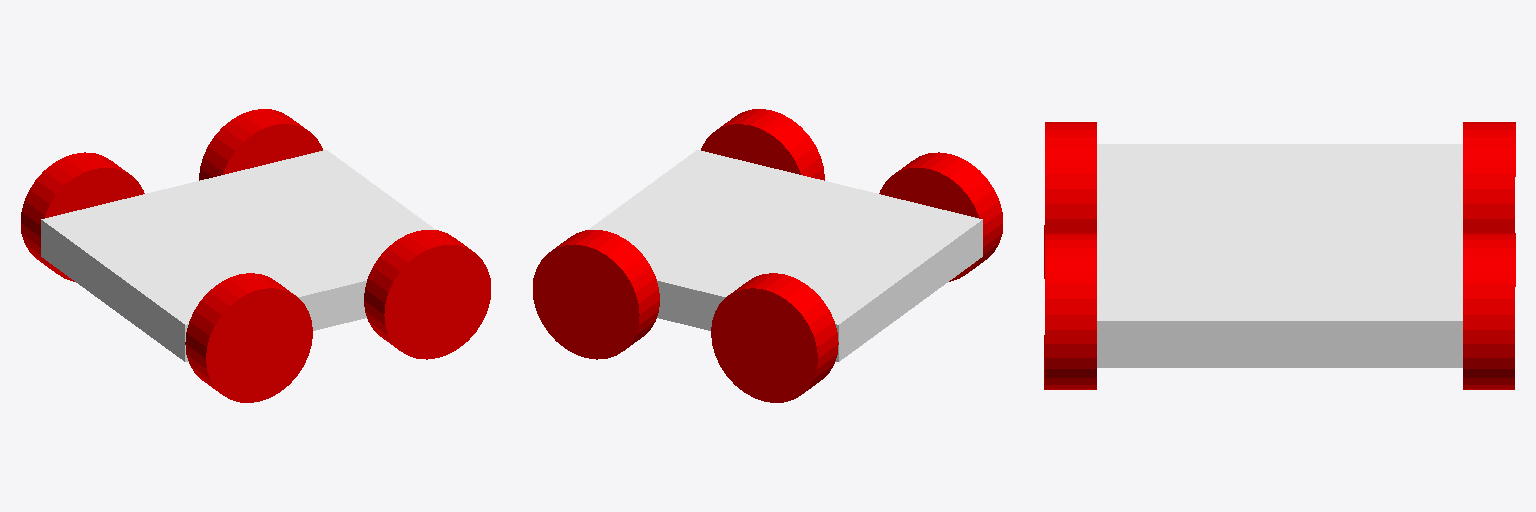
URDF robot description (rover):
<?xml version="1.0"?>
<robot name="rover">
    <link name="base_footprint"/>
    <link name="base_link">
        <inertial>
            <origin xyz="0.0 0.0 0.0" rpy="0.0 0.0 0.0"/>
            <mass value="1.0"/>
            <inertia ixx="0.04165" ixy="0.0" ixz="0.0" iyy="0.054145" iyz="0.0" izz="0.094129"/>
        </inertial>
        <visual name="">
            <origin xyz="0.0 0.0 0.0" rpy="0.0 0.0 0.0"/>
            <geometry>
                <box size="0.8 0.7 0.1"/>
            </geometry>
            <material name="">
                <color rgba="1.0 1.0 1.0 1.0"/>
                <texture filename=""/>
            </material>
        </visual>
        <collision>
            <origin xyz="0.0 0.0 0.0" rpy="0.0 0.0 0.0"/>
            <geometry>
                <box size="0.0 0.0 0.0"/>
            </geometry>
        </collision>
    </link>
    <joint name="base_joint" type="fixed">
        <origin xyz="0.0 0.0 0.135" rpy="0.0 0.0 0.0"/>
        <parent link="base_footprint"/>
        <child link="base_link"/>
        <axis xyz="0.0 0.0 0.0"/>
        <limit lower="0.0" upper="0.0" effort="0.0" velocity="0.0"/>
    </joint>
    


    <link name="wheel_rear_right_link">
        <inertial>
            <origin xyz="0.0 0.0 0.0" rpy="0.0 0.0 0.0"/>
            <mass value="0.5"/>
            <inertia ixx="0.003227875" ixy="0.0" ixz="0.0" iyy="0.003227875" iyz="0.0" izz="0.005625"/>
        </inertial>
        <visual name="">
            <origin xyz="0.0 0.0 0.0" rpy="0.0 0.0 0.0"/>
            <geometry>
                <cylinder radius="0.15" length="0.1"/>
            </geometry>
            <material name="red">
                <color rgba="1.0 0.0 0.0 1.0"/>
                <texture filename=""/>
            </material>
        </visual>
        <collision>
            <origin xyz="0.0 0.0 0.0" rpy="0.0 0.0 0.0"/>
            <geometry>
                <cylinder radius="0.15" length="0.1"/>
            </geometry>
        </collision>
    </link>

    <joint name="wheel_rear_right_joint" type="continuous">
        <origin xyz="0.25 0.40 0.0" rpy="1.57 0.0 0.0"/>
        <parent link="base_link"/>
        <child link="wheel_rear_right_link"/>
        <axis xyz="0.0 0.0 1.0"/>
        <limit lower="0.0" upper="0.0" effort="0.0" velocity="0.0"/>
    </joint>

     <link name="wheel_rear_left_link">
        <inertial>
            <origin xyz="0.0 0.0 0.0" rpy="0.0 0.0 0.0"/>
            <mass value="0.5"/>
            <inertia ixx="0.003227875" ixy="0.0" ixz="0.0" iyy="0.003227875" iyz="0.0" izz="0.005625"/>
        </inertial>
        <visual name="">
            <origin xyz="0.0 0.0 0.0" rpy="0.0 0.0 0.0"/>
            <geometry>
               <cylinder radius="0.15" length="0.1"/>
            </geometry>
            <material name="red">
                <color rgba="1.0 0.0 0.0 1.0"/>
                <texture filename=""/>
            </material>
        </visual>
        <collision>
            <origin xyz="0.0 0.0 0.0" rpy="0.0 0.0 0.0"/>
            <geometry>
                <cylinder radius="0.15" length="0.1"/>
            </geometry>
        </collision>
    </link>

    <joint name="wheel_rear_left_joint" type="continuous">
        <origin xyz="0.25 -0.40 0.0" rpy="1.57 0.0 0.0"/>
        <parent link="base_link"/>
        <child link="wheel_rear_left_link"/>
        <axis xyz="0.0 0.0 1.0"/>
        <limit lower="0.0" upper="0.0" effort="0.0" velocity="0.0"/>
    </joint>

     <link name="wheel_front_right_link">
        <inertial>
            <origin xyz="0.0 0.0 0.0" rpy="0.0 0.0 0.0"/>
            <mass value="0.5"/>
            <inertia ixx="0.003227875" ixy="0.0" ixz="0.0" iyy="0.003227875" iyz="0.0" izz="0.005625"/>
        </inertial>
        <visual name="">
            <origin xyz="0.0 0.0 0.0" rpy="0.0 0.0 0.0"/>
            <geometry>
                <cylinder radius="0.15" length="0.1"/>
            </geometry>
            <material name="rec">
                <color rgba="1.0 0.0 0.0 1.0"/>
                <texture filename=""/>
            </material>
        </visual>
        <collision>
            <origin xyz="0.0 0.0 0.0" rpy="0.0 0.0 0.0"/>
            <geometry>
                <cylinder radius="0.15" length="0.1"/>
            </geometry>
        </collision>
    </link>

    <joint name="wheel_front_right_joint" type="continuous">
        <origin xyz="-0.25 0.40 0.0" rpy="1.57 0.0 0.0"/>
        <parent link="base_link"/>
        <child link="wheel_front_right_link"/>
        <axis xyz="0.0 0.0 1.0"/>
        <limit lower="0.0" upper="0.0" effort="0.0" velocity="0.0"/>
    </joint>

     <link name="wheel_front_left_link">
        <inertial>
            <origin xyz="0.0 0.0 0.0" rpy="0.0 0.0 0.0"/>
            <mass value="0.5"/>
            <inertia ixx="0.003227875" ixy="0.0" ixz="0.0" iyy="0.003227875" iyz="0.0" izz="0.005625"/>
        </inertial>
        <visual name="">
            <origin xyz="0.0 0.0 0.0" rpy="0.0 0.0 0.0"/>
            <geometry>
                <cylinder radius="0.15" length="0.1"/>
            </geometry>
            <material name="red">
                <color rgba="1.0 0.0 0.0 1.0"/>
                <texture filename=""/>
            </material>
        </visual>
        <collision>
            <origin xyz="0.0 0.0 0.0" rpy="0.0 0.0 0.0"/>
            <geometry>
                <cylinder radius="0.15" length="0.1"/>
            </geometry>
        </collision>
    </link>

    <joint name="wheel_front_left_joint" type="continuous">
        <origin xyz="-0.25 -0.40 0.0" rpy="1.57 0.0 0.0"/>
        <parent link="base_link"/>
        <child link="wheel_front_left_link"/>
        <axis xyz="0.0 0.0 1.0"/>
        <limit lower="0.0" upper="0.0" effort="0.0" velocity="0.0"/>
    </joint>
    
</robot> 

--- Facts derived from the render (not from the file) ---
The picture shows the robot from 3 angles, left to right: view 1: azimuth 30°, elevation 25°; view 2: azimuth 150°, elevation 25°; view 3: azimuth 270°, elevation 25°; orthographic projection.
Model rover with 6 links and 5 joints (4 continuous, 1 fixed), rooted at base_footprint, posed all joints at 0.
Links seen in each view (by area): view 1: base_link, wheel_front_left_link, wheel_rear_left_link, wheel_front_right_link, wheel_rear_right_link; view 2: base_link, wheel_front_right_link, wheel_rear_right_link, wheel_front_left_link, wheel_rear_left_link; view 3: base_link, wheel_rear_left_link, wheel_rear_right_link, wheel_front_right_link, wheel_front_left_link.
Boxes of the visible links, x1,y1,x2,y2 form: base_link: (41,150,435,361); wheel_front_left_link: (185,273,312,402); wheel_rear_left_link: (364,230,490,359); wheel_front_right_link: (21,152,144,281); wheel_rear_right_link: (199,109,322,180); base_link: (588,150,982,361); wheel_front_right_link: (711,273,838,402); wheel_rear_right_link: (533,230,659,359); wheel_front_left_link: (879,152,1002,281); wheel_rear_left_link: (701,109,824,180); base_link: (1097,144,1462,367); wheel_rear_left_link: (1044,233,1096,389); wheel_rear_right_link: (1463,233,1515,389); wheel_front_right_link: (1463,122,1515,232); wheel_front_left_link: (1044,122,1096,278).
Bounding box of the posed robot: 0.8 × 0.9002 × 0.3001 m (x, y, z).
Geometry: primitives only (box / cylinder / sphere), no mesh files.